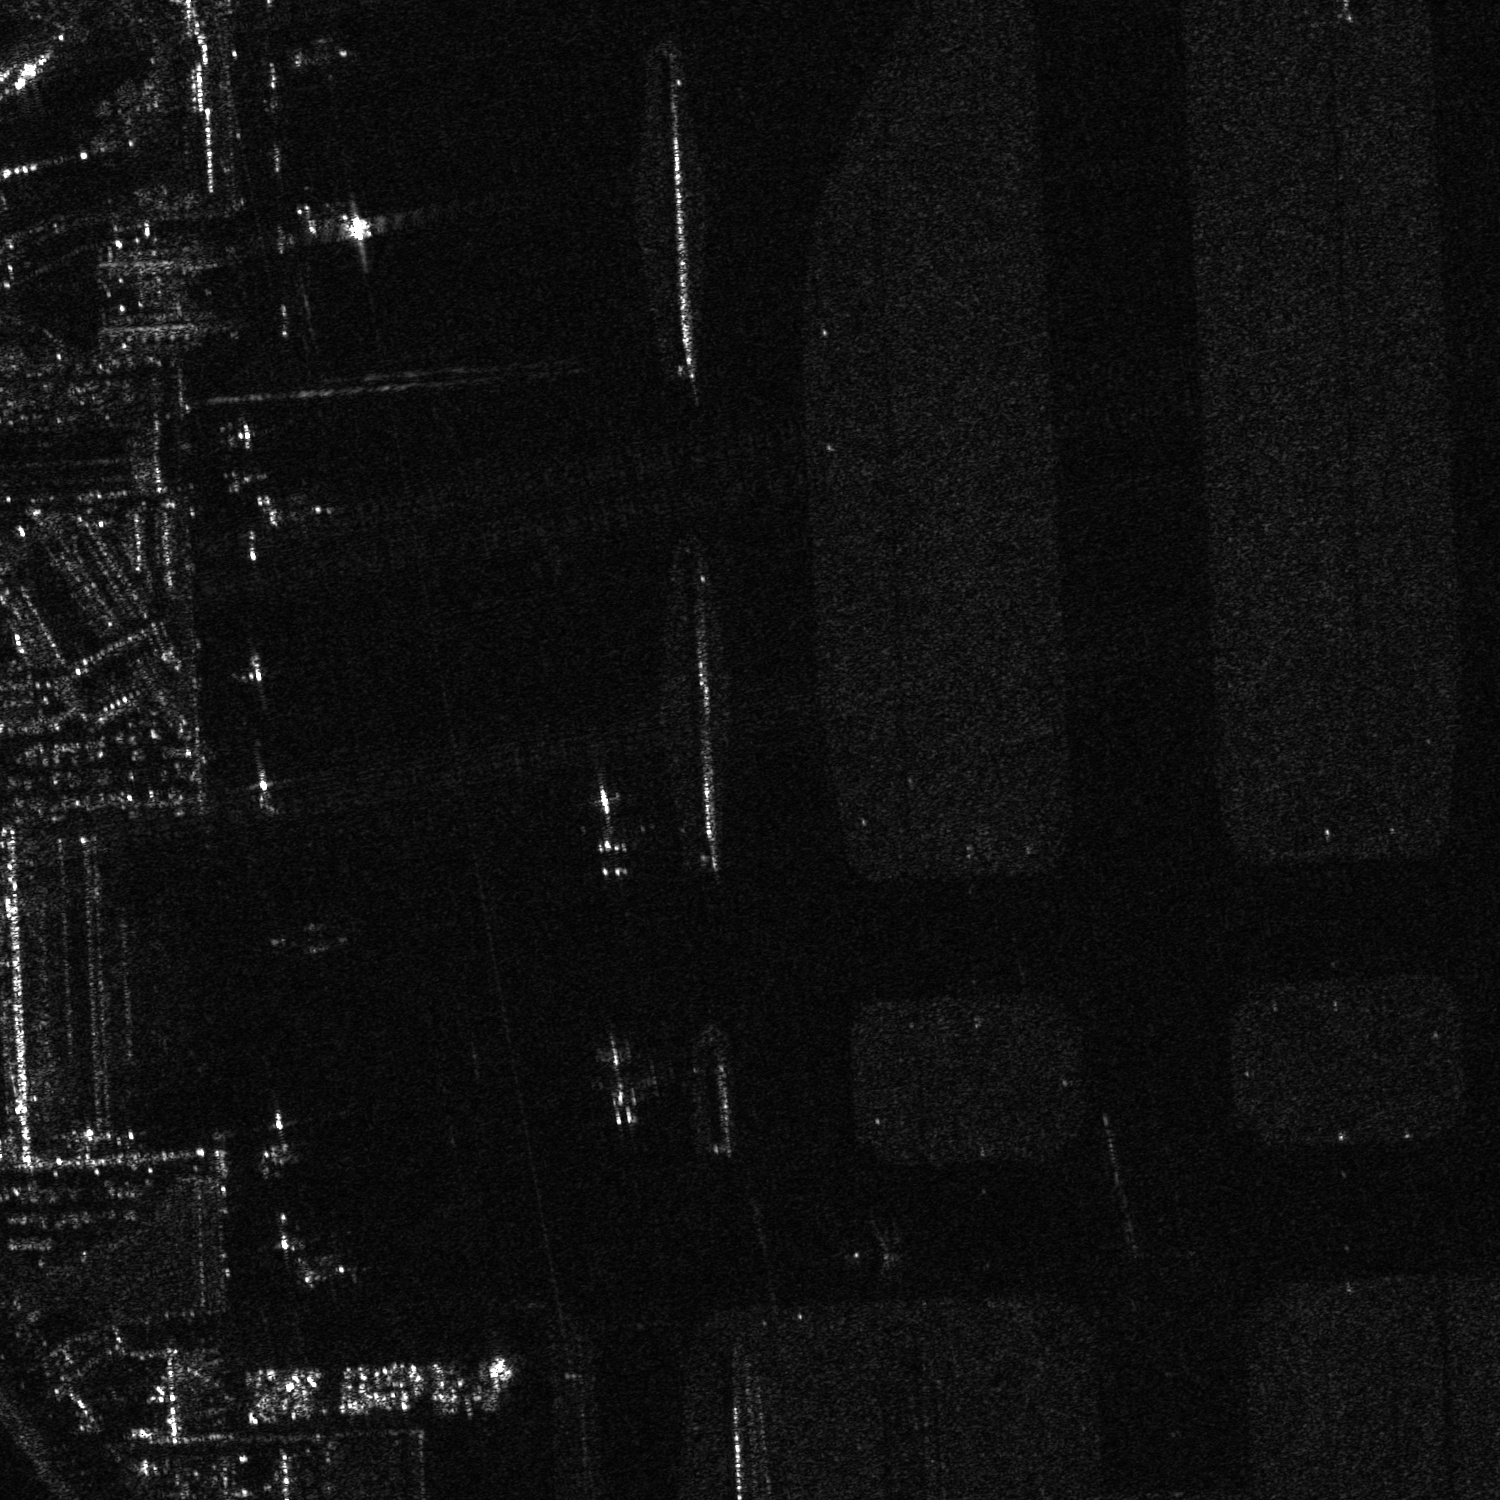A220: (283, 169, 402, 269), (238, 484, 343, 541), (284, 1232, 378, 1295), (284, 23, 363, 92)
other: (591, 1022, 657, 1132), (582, 765, 637, 889)
